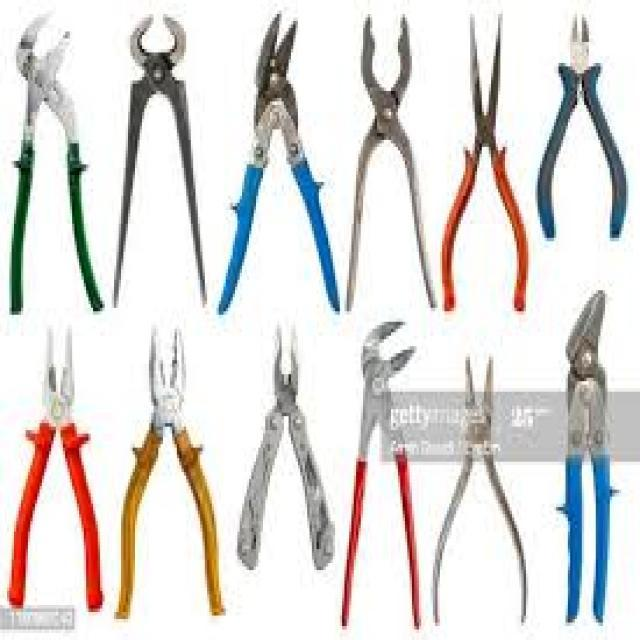pliers: (210, 9, 350, 318), (112, 316, 226, 630), (0, 0, 107, 327), (338, 2, 446, 318), (434, 1, 538, 324), (100, 11, 212, 309), (426, 344, 532, 639), (7, 328, 108, 620), (342, 313, 426, 640), (236, 315, 336, 582), (552, 278, 624, 640), (534, 7, 629, 250)
